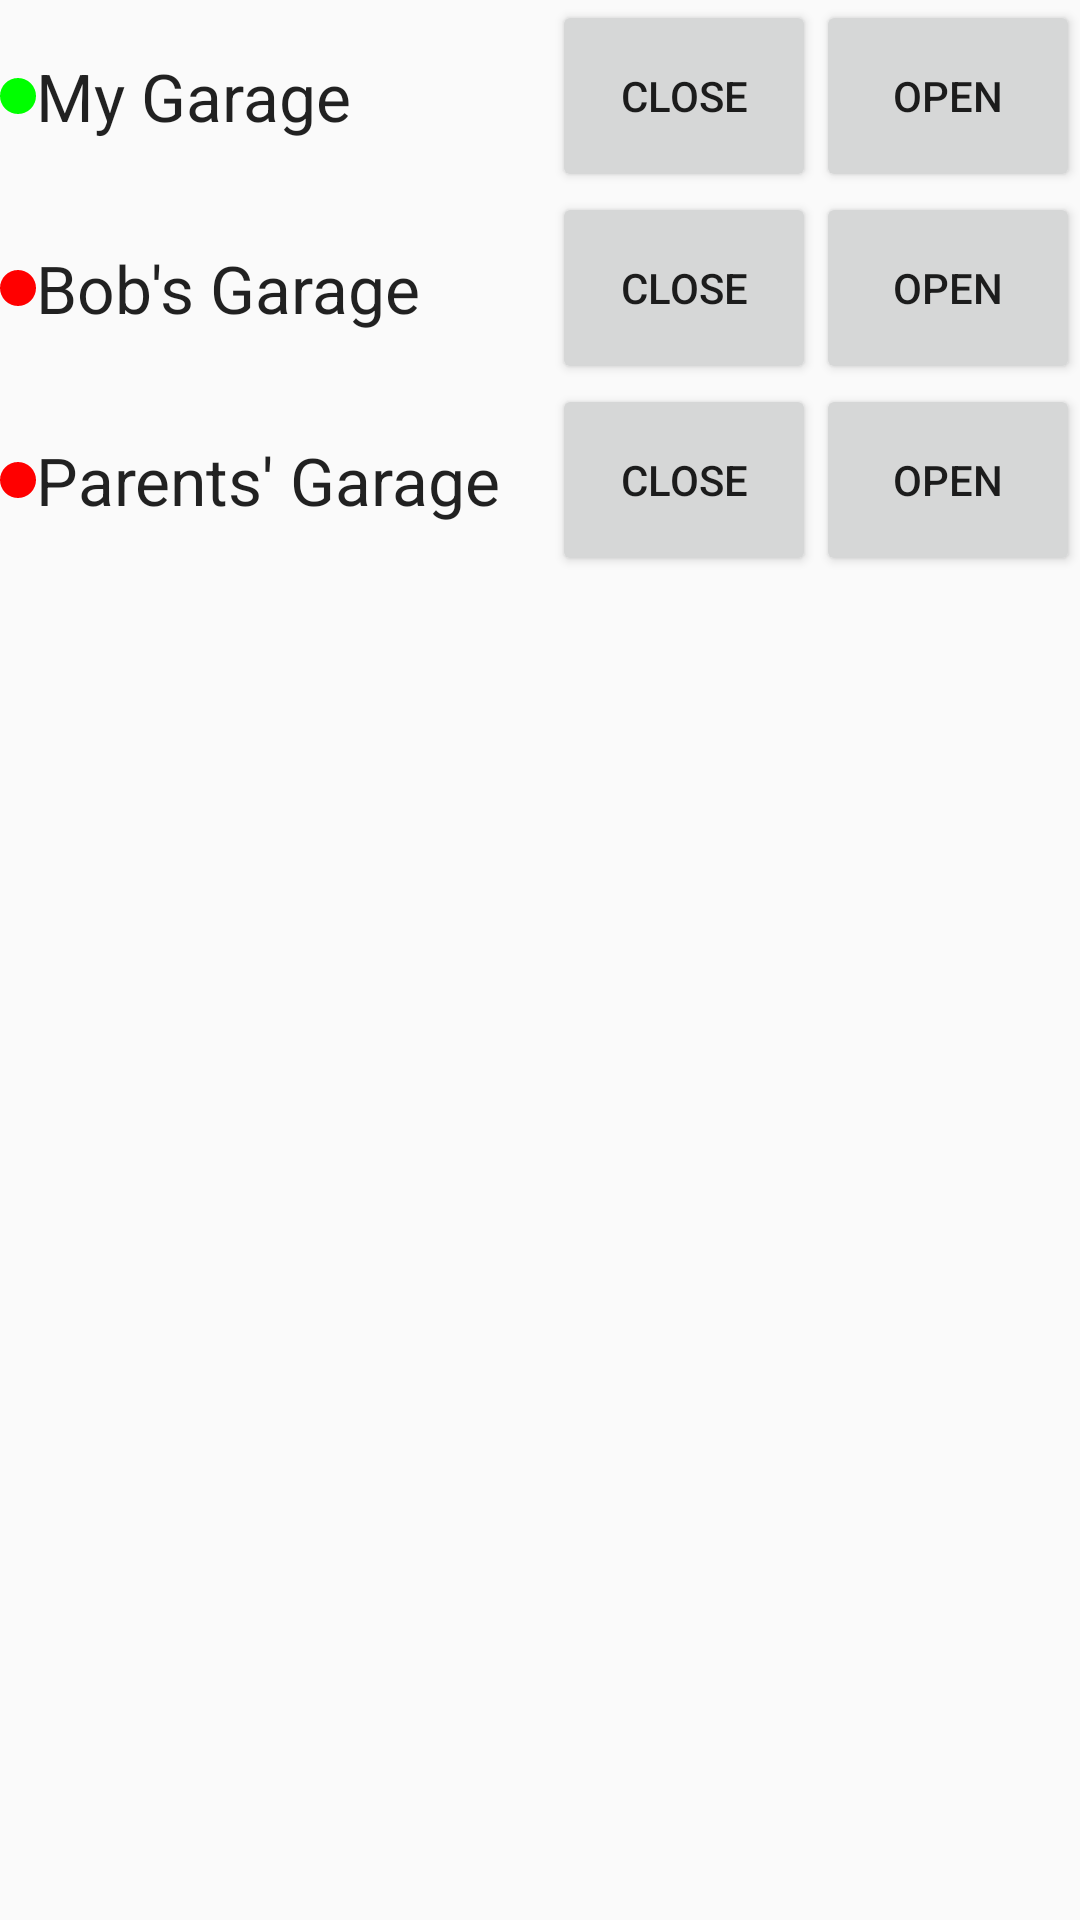

Where icons sit on this 1080x1920 app screen, as (x1, y1, x2, y2):
Image indicating if garage is open or closed: (0, 78, 36, 114), (0, 270, 36, 306), (0, 462, 36, 498)
